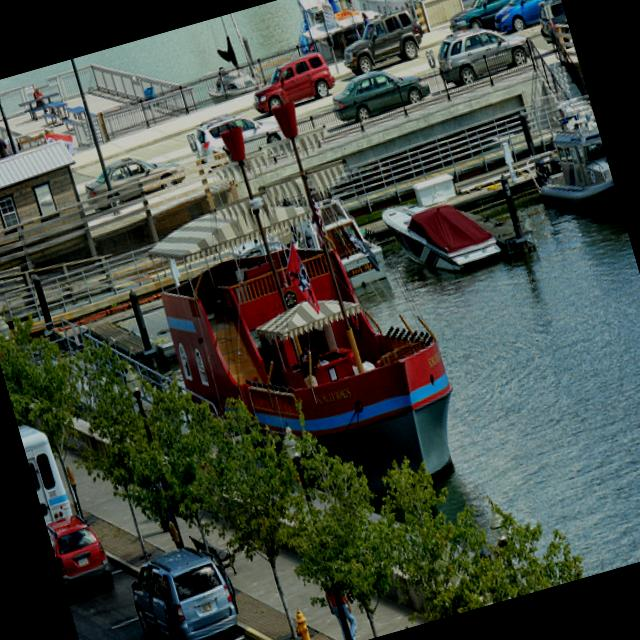Vehicle: (122, 535, 246, 640), (430, 11, 540, 90), (324, 54, 434, 128), (81, 144, 188, 213), (334, 5, 431, 80), (245, 46, 339, 117), (188, 101, 286, 168), (16, 412, 73, 524), (45, 508, 113, 600), (441, 0, 529, 41), (486, 0, 565, 34), (527, 0, 571, 45)
